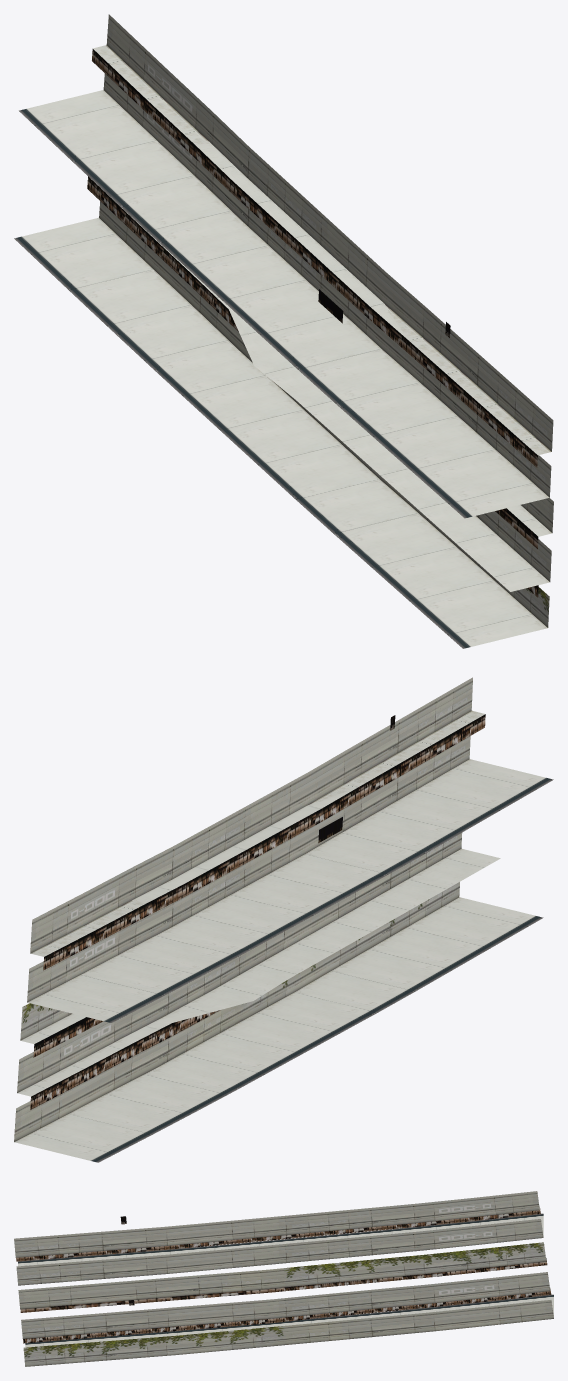
Rendered from STA20_balconies.FBX.
3 views of the same model, one above another, from view 1: azimuth 30°, elevation 25°; view 2: azimuth 150°, elevation 25°; view 3: azimuth 270°, elevation 25° (orthographic). The views are drawn at different scales.
Visible parts, largest first — view 1: STA20_balconies; view 2: STA20_balconies; view 3: STA20_balconies.
Boxes of the visible parts, <box> form: STA20_balconies: <box>14,14,553,648</box>; STA20_balconies: <box>14,677,553,1162</box>; STA20_balconies: <box>14,1191,553,1366</box>.
Bounding box in the file's own units: 14.84 × 47.09 × 132.
